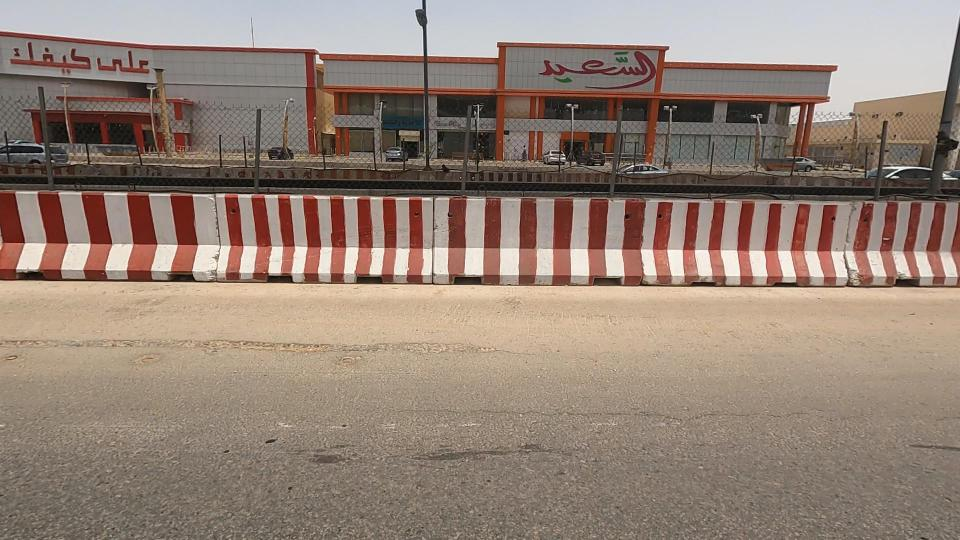CONSTRUCTION_ROAD: (456, 136, 960, 330), (185, 130, 596, 328), (0, 104, 329, 348)
